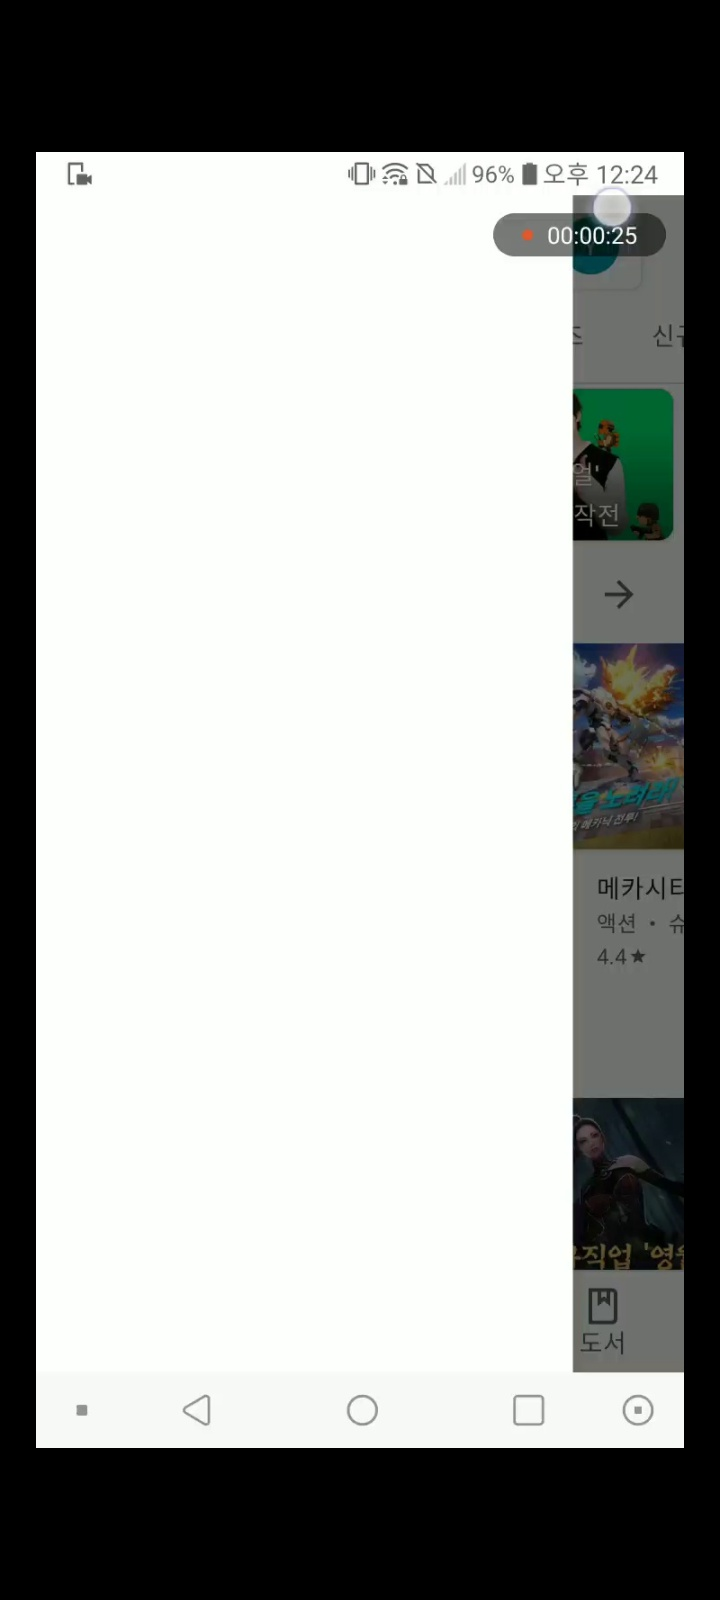Cursor: (590, 184, 635, 230)
